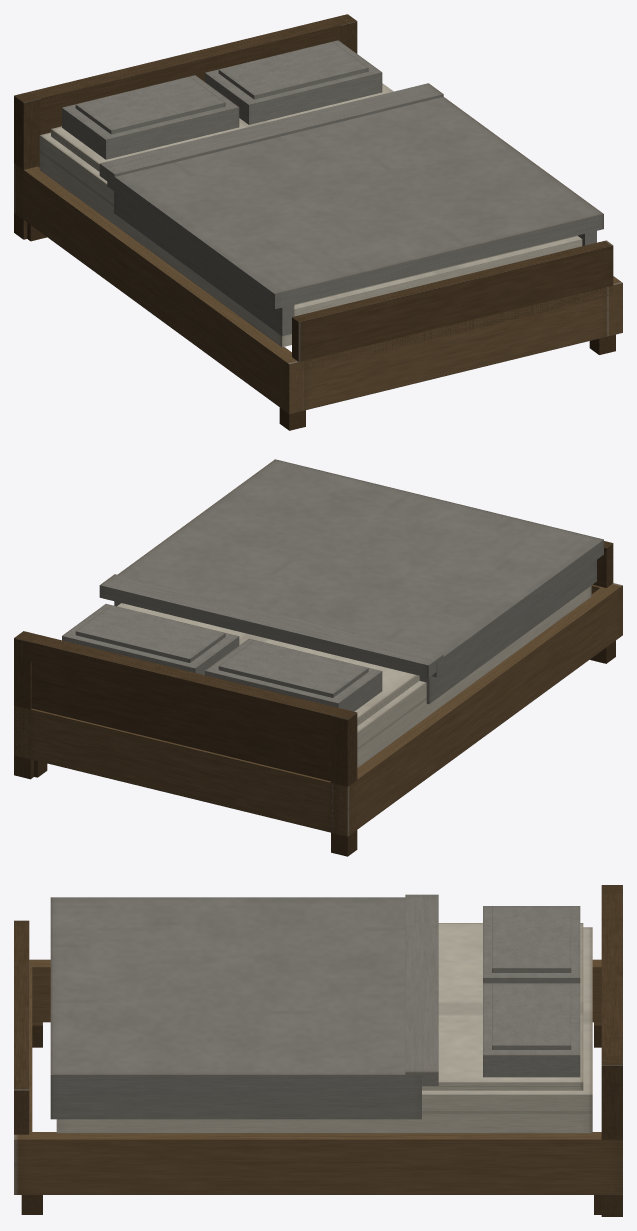
Rendered from bed.glb.
3 views of the same model, one above another, from view 1: azimuth 30°, elevation 25°; view 2: azimuth 150°, elevation 25°; view 3: azimuth 270°, elevation 25° (orthographic). The views are drawn at different scales.
Parts seen in each view (by area): view 1: core_bed; view 2: core_bed; view 3: core_bed.
Boxes of the visible parts, <box> form: core_bed: <box>14,14,622,430</box>; core_bed: <box>14,459,622,856</box>; core_bed: <box>14,885,622,1216</box>.
Bounding box in the file's own units: 1.4 × 0.55 × 2.
Materials: 1 (1 with a texture image).
